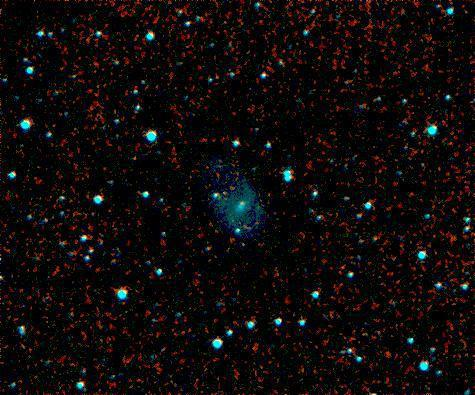star: (214, 179, 244, 209)
